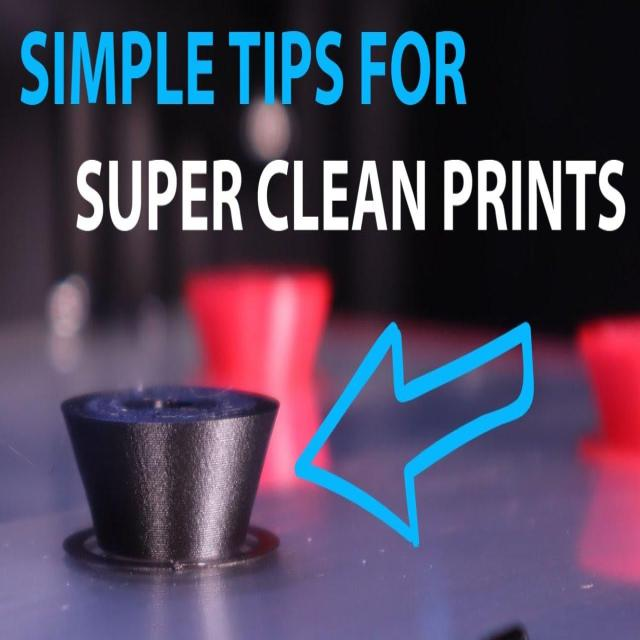Without deffect: (55, 347, 283, 579)
